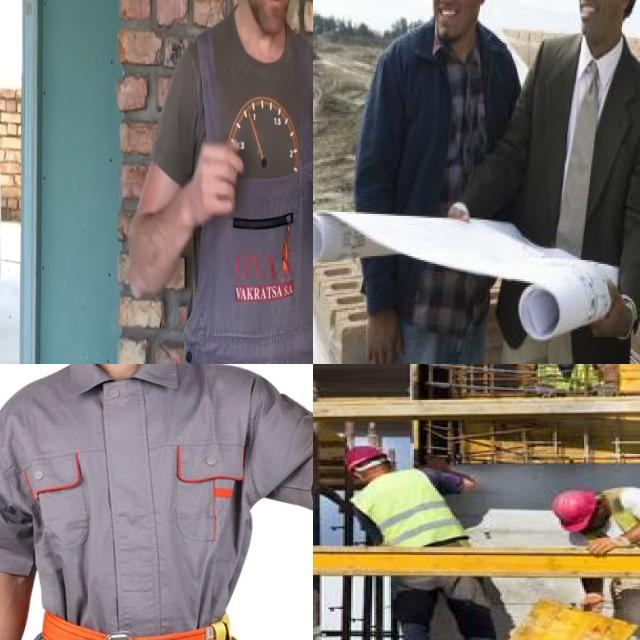Ear-protection: (223, 0, 313, 52)
Harness: (26, 364, 262, 640)
No_Ear-Protection: (617, 0, 632, 16), (474, 0, 488, 10)
face_nomask: (428, 0, 477, 46), (572, 0, 614, 42)
hand_glove: (584, 535, 634, 557)
hand_noglove: (590, 278, 632, 346), (367, 308, 405, 364)
head_helmet: (542, 490, 603, 530), (343, 447, 378, 470)
person: (367, 0, 510, 364), (498, 0, 640, 364), (315, 442, 500, 640), (552, 488, 640, 640)
vest: (344, 477, 468, 545), (609, 488, 640, 547)
